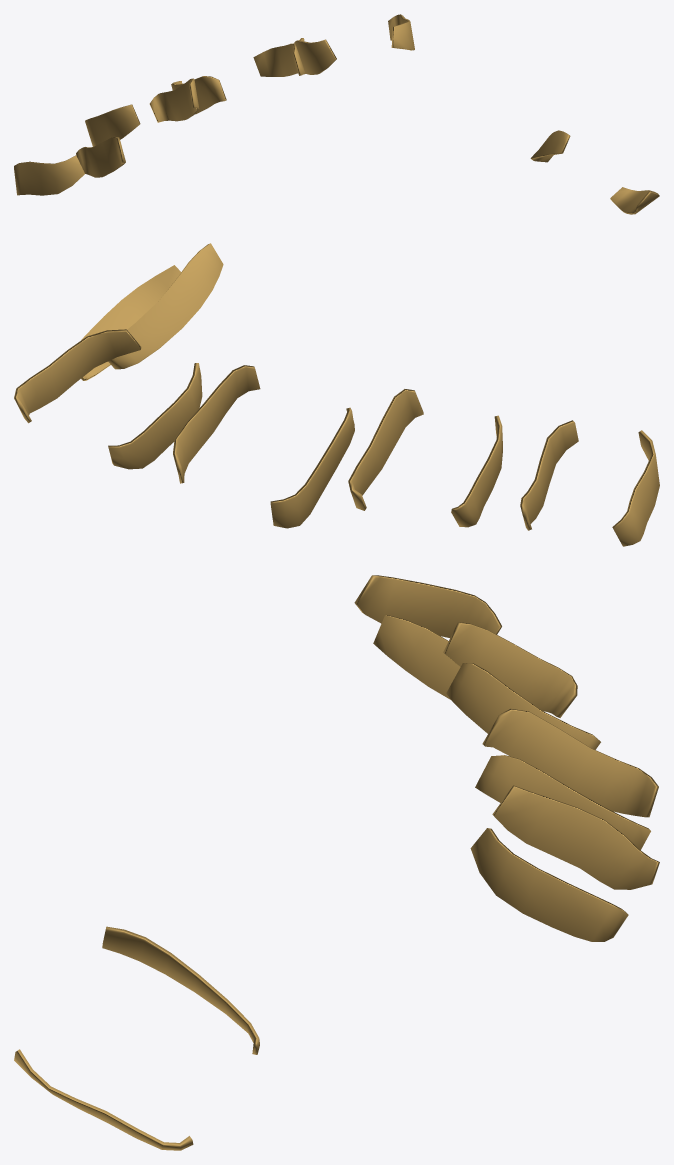
The picture shows the model from 3 angles, top to bottom: view 1: azimuth 30°, elevation 25°; view 2: azimuth 150°, elevation 25°; view 3: azimuth 270°, elevation 25°; orthographic projection. The views are drawn at different scales.
Visible parts, largest first — view 1: 左侧掌指关节侧副韧带; view 2: 左侧掌指关节侧副韧带; view 3: 左侧掌指关节侧副韧带.
Part boxes in pixels (x1,y1,x2,y2): 左侧掌指关节侧副韧带: (14, 14, 659, 214); 左侧掌指关节侧副韧带: (14, 243, 659, 546); 左侧掌指关节侧副韧带: (14, 575, 659, 1150).
Size of the model in its own units: 0.1376 by 0.0351 by 0.0907.
